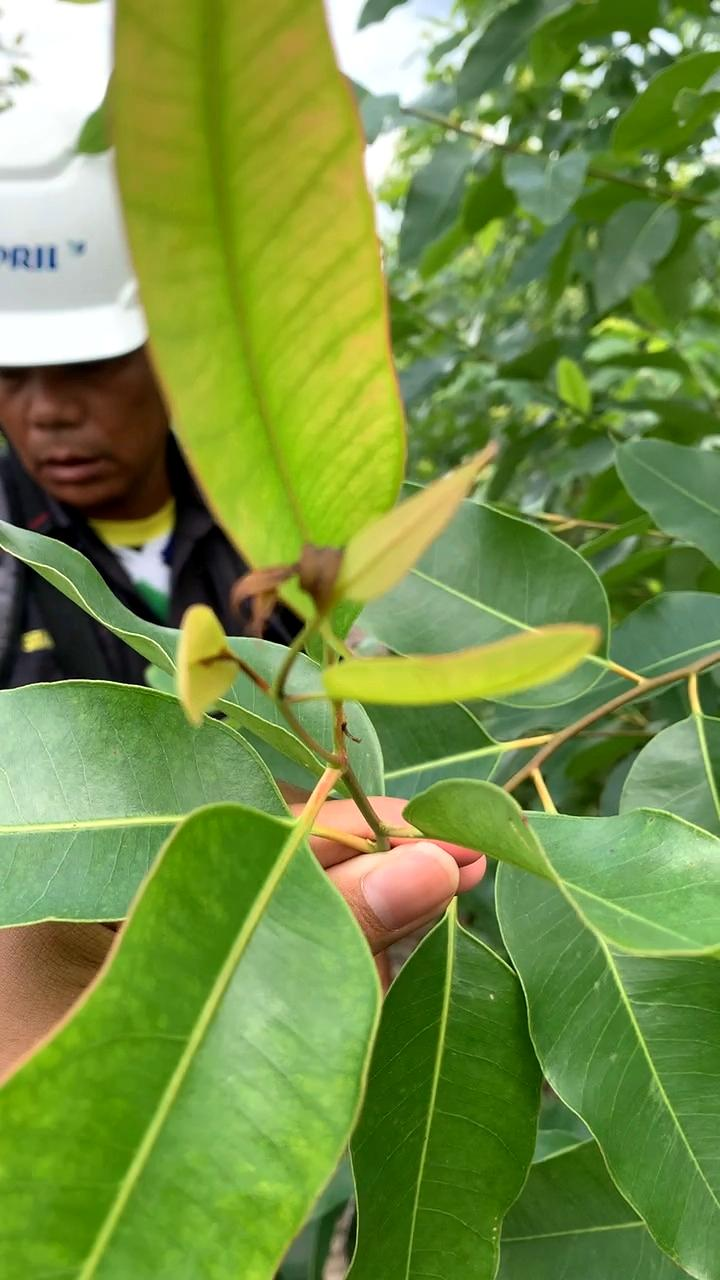Helopeltis-Withered Sprout: (218, 538, 359, 646)
